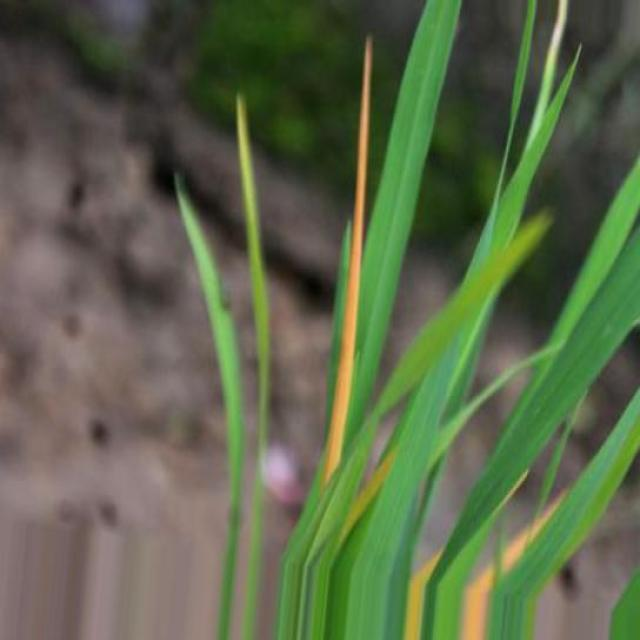Rice Tungro: (322, 36, 372, 484)
